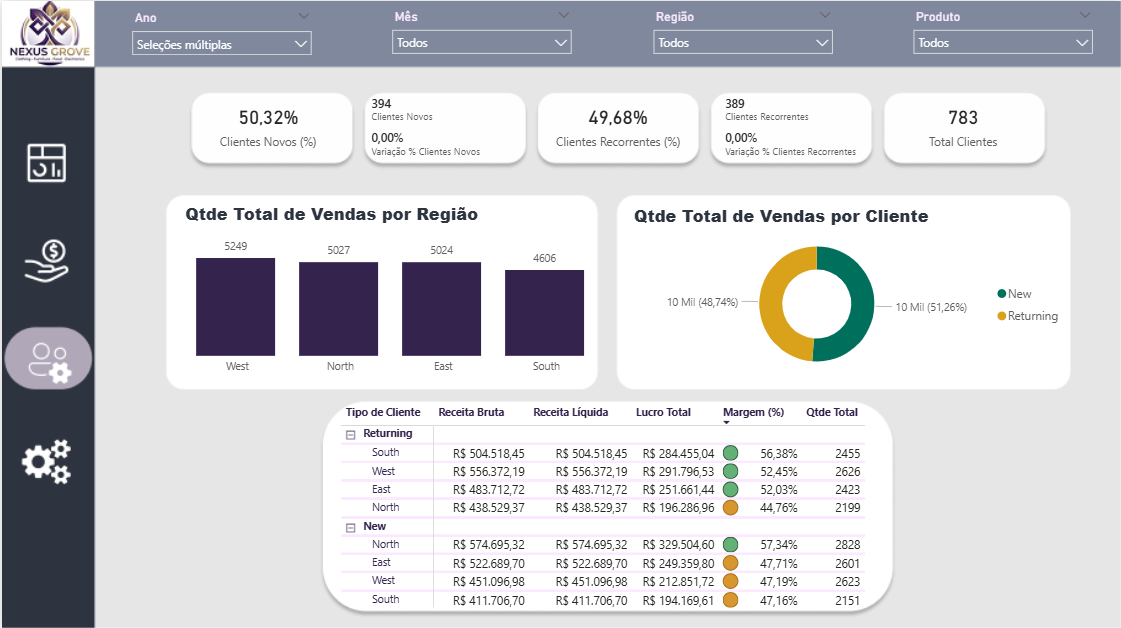

What the dashboard file says about the page in this screenshot:
{"tool":"powerbi","page":{"name":"Clientes","canvas":[1280,720],"ordinal":2},"visuals":[{"type":"card","fields":{"Values":["Medidas.15 Clientes Novos (%)"]},"box":[204.3,101,200,80],"z":0},{"type":"card","fields":{"Values":["Medidas.16 Clientes Recorrentes (%)"]},"box":[604.3,101,200,80],"z":1000},{"type":"cardVisual","fields":{"Data":["Medidas.12 Clientes Novos","Medidas.23 Variação % Clientes Novos"]},"box":[417.1,102.9,222.9,80],"z":2000},{"type":"card","fields":{"Values":["Medidas.14 Total Clientes"]},"box":[998.6,101.4,200,80],"z":3000},{"type":"clusteredColumnChart","fields":{"Category":["vendas.Region"],"Y":["Medidas.06 Quantidade Total"]},"box":[170,257.1,551.4,178.6],"z":4000},{"type":"donutChart","fields":{"Category":["vendas.Customer_Type"],"Y":["Medidas.06 Quantidade Total"]},"box":[721.4,257.1,500,178.6],"z":5000},{"type":"pivotTable","fields":{"Values":["Medidas.01 Receita Bruta","Medidas.02 Receita Líquida","Medidas.04 Lucro Total","Medidas.05 Margem (%)","Medidas.06 Quantidade Total"],"Rows":["vendas.Customer_Type","vendas.Region"]},"box":[383.3,456.7,636.7,243.3],"z":6000},{"type":"textbox","box":[204.3,224.3,481.4,40],"z":7000},{"type":"textbox","box":[717.1,227.1,481.4,40],"z":8000},{"type":"actionButton","box":[0,153.3,103.3,60],"z":9000},{"type":"actionButton","box":[0,266.7,103.3,60],"z":10000},{"type":"actionButton","box":[0,493.3,103.3,66.7],"z":11000},{"type":"slicer","fields":{"Values":["dCalendario.Ano"]},"box":[138.8,6,225.4,65.7],"z":12000},{"type":"slicer","fields":{"Values":["dCalendario.Nome do Mês"]},"box":[436.3,4.5,225.4,65.7],"z":13000},{"type":"slicer","fields":{"Values":["vendas.Region"]},"box":[733.8,4.5,225.4,65.7],"z":14000},{"type":"slicer","fields":{"Values":["vendas.Product_Category"]},"box":[1031.3,4.5,225.4,65.7],"z":15000},{"type":"cardVisual","fields":{"Data":["Medidas.13 Clientes Recorrentes","Medidas.24 Variação % Clientes Recorrentes"]},"box":[821.4,102.9,222.9,80],"z":16000}]}

Visuals, with their boxes on the page's 1280x720 design canvas (x1, y1, x2, y2). These are canvas units, not pixel positions in the 1121x628 screenshot, which may show the page scaled, cropped or inside an application window:
card - Medidas.15 Clientes Novos (%): <bbox>204, 101, 404, 181</bbox>
card - Medidas.16 Clientes Recorrentes (%): <bbox>604, 101, 804, 181</bbox>
cardVisual - Medidas.12 Clientes Novos x Medidas.23 Variação % Clientes Novos: <bbox>417, 103, 640, 183</bbox>
card - Medidas.14 Total Clientes: <bbox>999, 101, 1199, 181</bbox>
clusteredColumnChart - vendas.Region x Medidas.06 Quantidade Total: <bbox>170, 257, 721, 436</bbox>
donutChart - vendas.Customer_Type x Medidas.06 Quantidade Total: <bbox>721, 257, 1221, 436</bbox>
pivotTable - Medidas.01 Receita Bruta x Medidas.02 Receita Líquida: <bbox>383, 457, 1020, 700</bbox>
textbox: <bbox>204, 224, 686, 264</bbox>
textbox: <bbox>717, 227, 1198, 267</bbox>
actionButton: <bbox>0, 153, 103, 213</bbox>
actionButton: <bbox>0, 267, 103, 327</bbox>
actionButton: <bbox>0, 493, 103, 560</bbox>
slicer - dCalendario.Ano: <bbox>139, 6, 364, 72</bbox>
slicer - dCalendario.Nome do Mês: <bbox>436, 4, 662, 70</bbox>
slicer - vendas.Region: <bbox>734, 4, 959, 70</bbox>
slicer - vendas.Product_Category: <bbox>1031, 4, 1257, 70</bbox>
cardVisual - Medidas.13 Clientes Recorrentes x Medidas.24 Variação % Clientes Recorrentes: <bbox>821, 103, 1044, 183</bbox>
